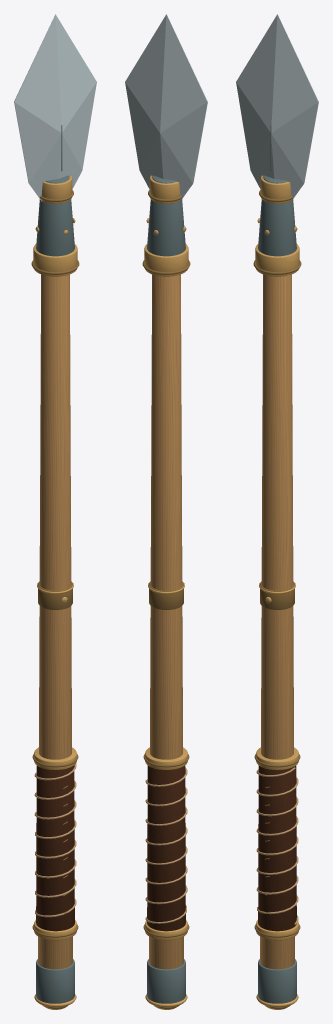
Rendered from spear.glb.
The picture shows the model from 3 angles, left to right: view 1: azimuth 30°, elevation 25°; view 2: azimuth 150°, elevation 25°; view 3: azimuth 330°, elevation 25°; orthographic projection.
Parts seen in each view (by area): view 1: Render_spear; view 2: Render_spear; view 3: Render_spear.
Part boxes in pixels (<box>): Render_spear: <box>14,14,96,1009</box>; Render_spear: <box>125,14,207,1009</box>; Render_spear: <box>236,14,318,1009</box>.
Bounding box in the file's own units: 0.142 × 1.63 × 0.0716.
7 materials, 7 textured.
